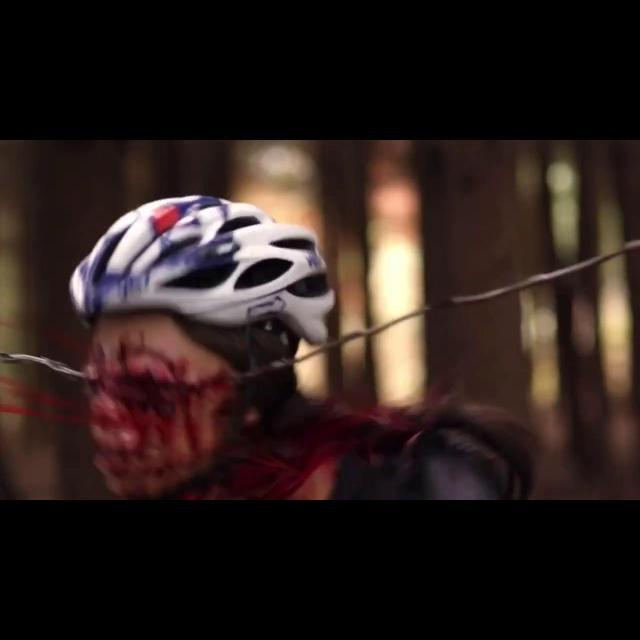blood: (0, 292, 450, 500)
